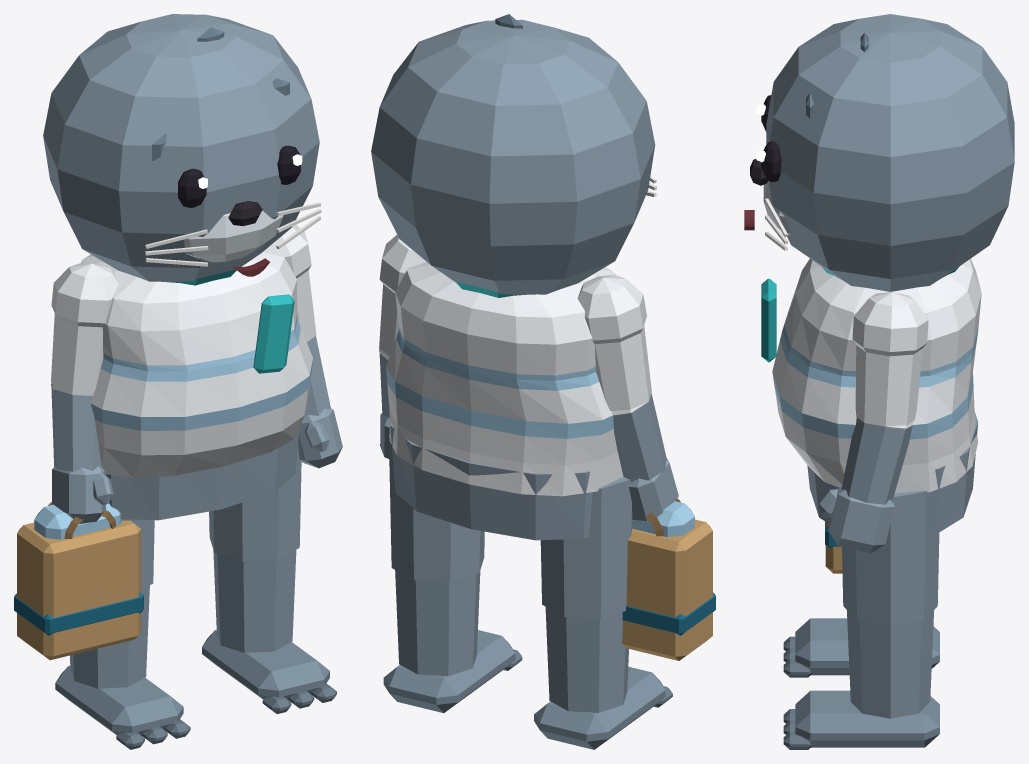
The model's file is fro-k3.glb.
3 views of the same model, side by side, from view 1: azimuth 30°, elevation 25°; view 2: azimuth 150°, elevation 25°; view 3: azimuth 270°, elevation 25° (orthographic). The views are drawn at different scales.
Visible parts, largest first — view 1: kopf, torso, gegenstand_bag, bein_l, arm_r, becken, schuh_r, schuh_l, bein_r, schnauze, arm_l, kragen (+4 smaller); view 2: kopf, torso, bein_r, bein_l, gegenstand_bag, arm_r, becken, schuh_l, schuh_r, arm_l, hand_r; view 3: kopf, torso, bein_l, arm_l, schuh_l, schuh_r, hand_l, becken, kragen, gesicht, schnurrhaare, schnauze (+1 smaller).
Boxes of the visible parts, <box> form: kopf: <box>43,14,319,281</box>; torso: <box>81,249,312,477</box>; gegenstand_bag: <box>14,502,143,660</box>; bein_l: <box>209,445,301,652</box>; arm_r: <box>51,263,118,471</box>; becken: <box>106,429,299,520</box>; schuh_r: <box>55,665,190,749</box>; schuh_l: <box>202,630,336,713</box>; bein_r: <box>70,519,154,688</box>; schnauze: <box>184,201,283,262</box>; arm_l: <box>266,225,330,418</box>; kragen: <box>167,269,294,373</box>; kopf: <box>371,19,655,294</box>; torso: <box>386,262,623,496</box>; bein_r: <box>540,477,632,712</box>; bein_l: <box>389,435,484,676</box>; gegenstand_bag: <box>622,498,715,660</box>; arm_r: <box>577,275,666,482</box>; becken: <box>390,423,592,540</box>; schuh_l: <box>383,630,522,713</box>; schuh_r: <box>534,666,672,749</box>; arm_l: <box>379,235,426,418</box>; hand_r: <box>629,458,678,521</box>; kopf: <box>766,14,1014,291</box>; torso: <box>772,258,981,493</box>; bein_l: <box>842,490,939,718</box>; arm_l: <box>841,292,928,504</box>; schuh_l: <box>783,690,939,749</box>; schuh_r: <box>783,618,939,677</box>; hand_l: <box>819,486,894,553</box>; becken: <box>807,412,977,534</box>; kragen: <box>761,266,959,362</box>; gesicht: <box>744,95,781,230</box>; schnurrhaare: <box>765,33,868,250</box>; schnauze: <box>750,159,791,234</box>.
Size of the model in its own units: 0.0109 by 0.0227 by 0.00825.
